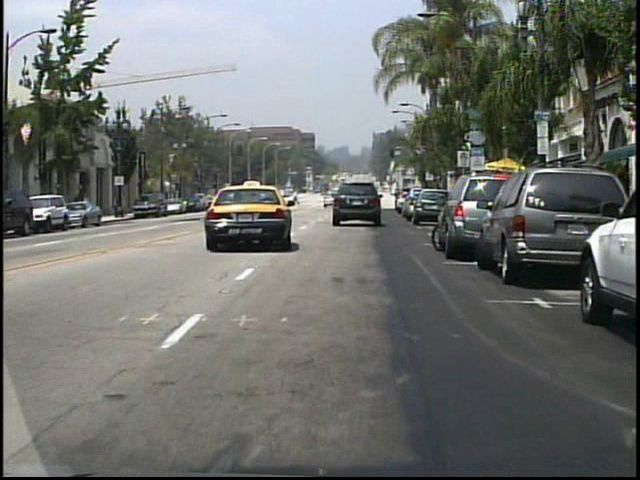person: (74, 188, 87, 220), (83, 191, 94, 220), (293, 189, 300, 202)
